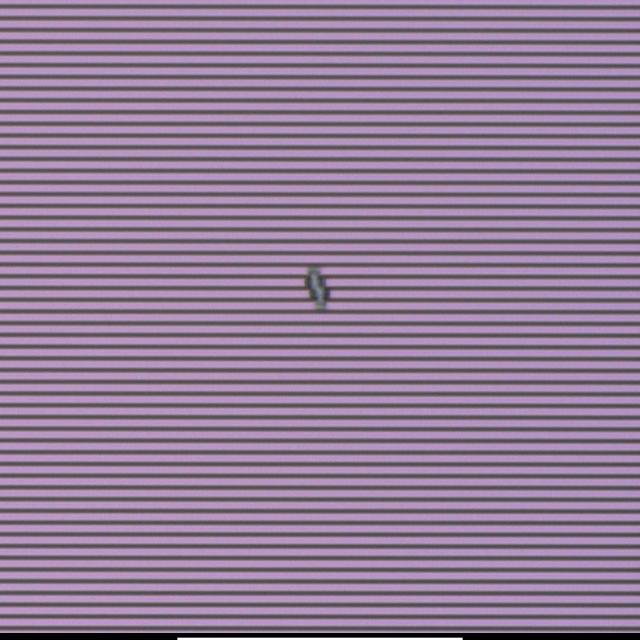nonvisual: (300, 264, 330, 312)
